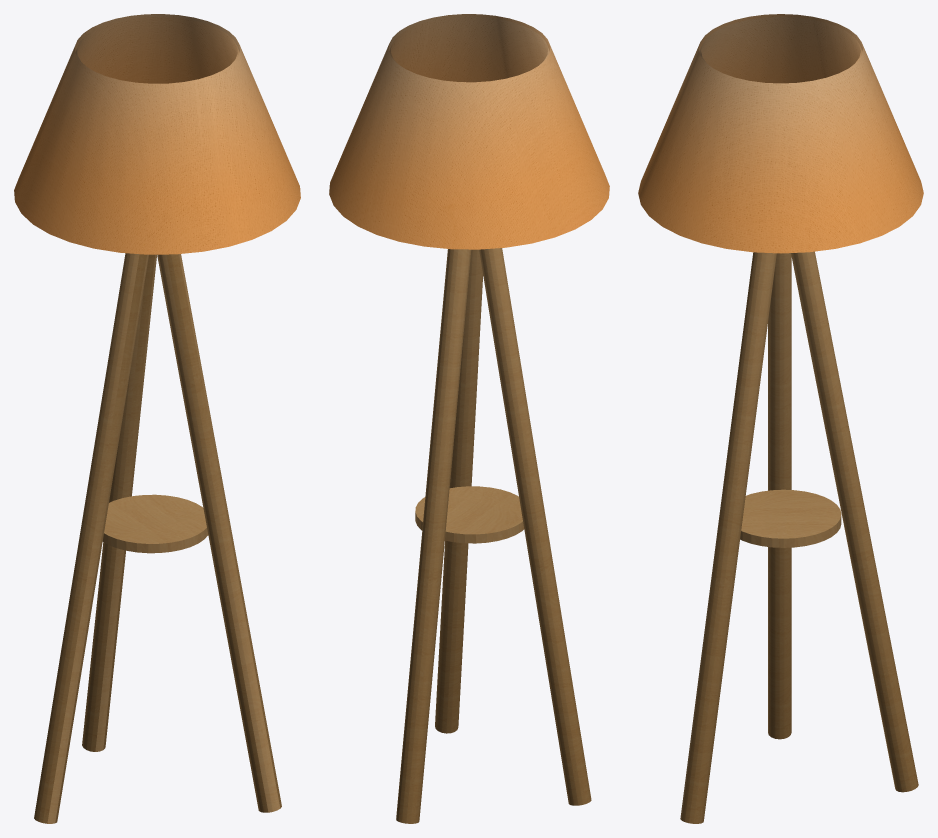
The model's file is ELT0110034.fbx.
3 views of the same model, side by side, from view 1: azimuth 30°, elevation 25°; view 2: azimuth 150°, elevation 25°; view 3: azimuth 270°, elevation 25° (orthographic). The views are drawn at different scales.
Parts seen in each view (by area): view 1: smELT0110034; view 2: smELT0110034; view 3: smELT0110034.
Boxes of the visible parts, x1,y1,x2,y2 form: smELT0110034: [14, 14, 300, 823]; smELT0110034: [329, 14, 609, 823]; smELT0110034: [638, 14, 923, 823].
Size of the model in its own units: 54.62 by 156 by 54.62.
Materials: 1 (1 with a texture image).
